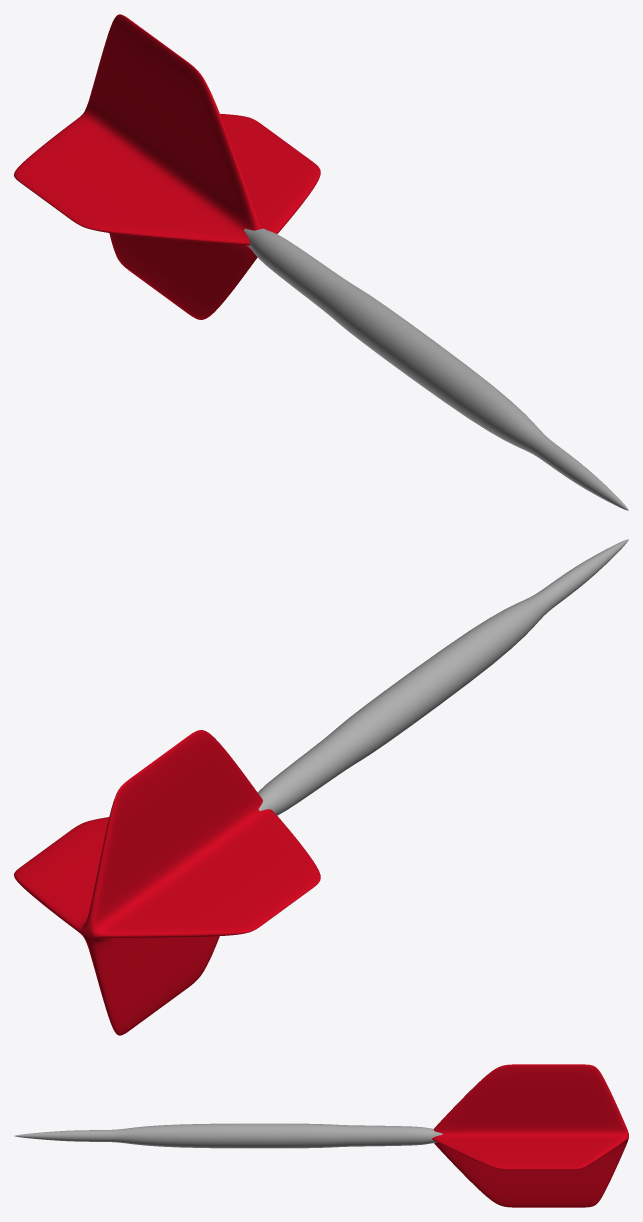
Rendered from Dart.fbx.
3 renders of one model, top to bottom at view 1: azimuth 30°, elevation 25°; view 2: azimuth 150°, elevation 25°; view 3: azimuth 270°, elevation 25°, orthographic. The views are drawn at different scales.
Visible parts, largest first — view 1: Mesh; view 2: Mesh; view 3: Mesh.
Part boxes in pixels (left/top/right/bottom): Mesh: left=14, top=14, right=628, bottom=510; Mesh: left=14, top=539, right=628, bottom=1035; Mesh: left=14, top=1064, right=628, bottom=1207.
Size of the model in its own units: 18.08 by 18.05 by 70.29.
